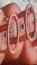cylinder: (1, 1, 37, 65)
